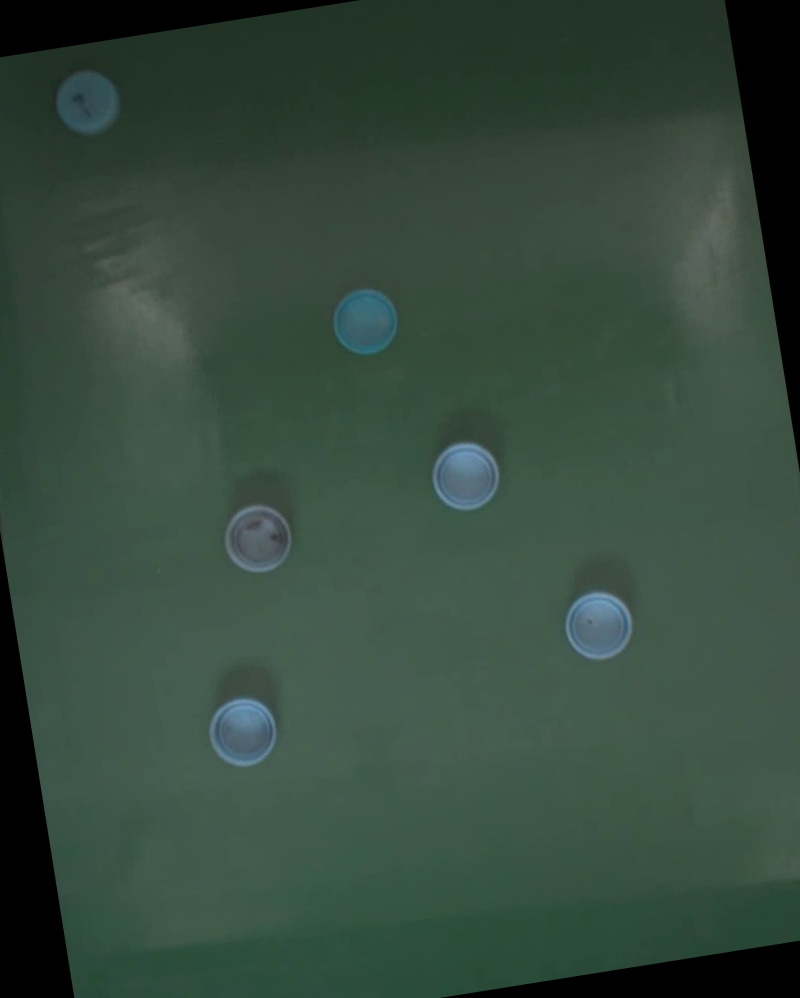Light Blue: (205, 693, 282, 771), (219, 499, 296, 577), (562, 584, 638, 663), (428, 436, 504, 514), (327, 283, 403, 359), (49, 66, 125, 139)
